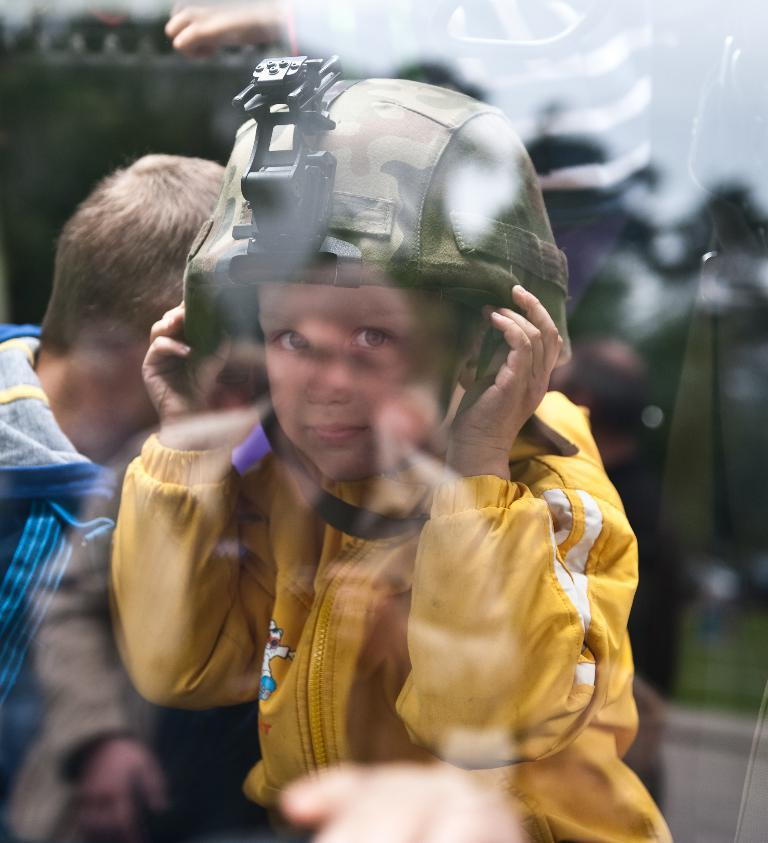helmet: (182, 77, 570, 467)
